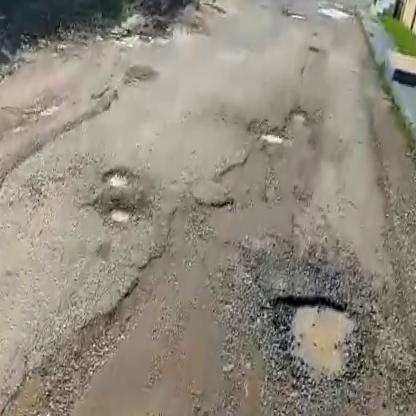pothole: (255, 289, 367, 394), (99, 165, 139, 193), (257, 129, 289, 149), (107, 206, 132, 229), (288, 108, 311, 128)
